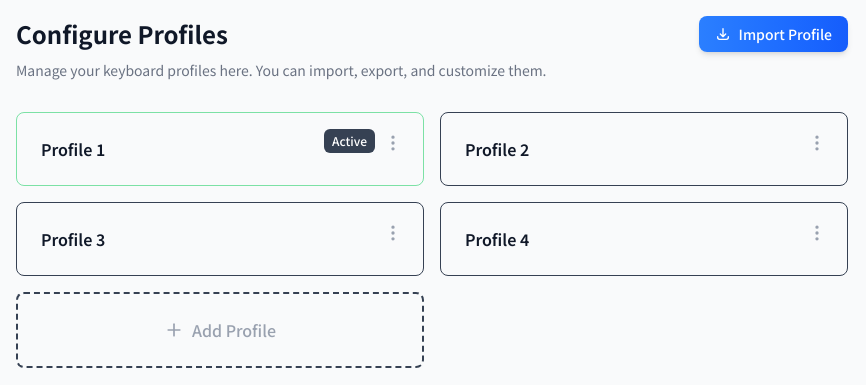
Test: ProfilesPage › menu from the keyboard › leaves the focus on the menu button when opened with the mouse
Click the 2nd button named "Menu". click: (817, 143)
box: 803,129 -> 831,157
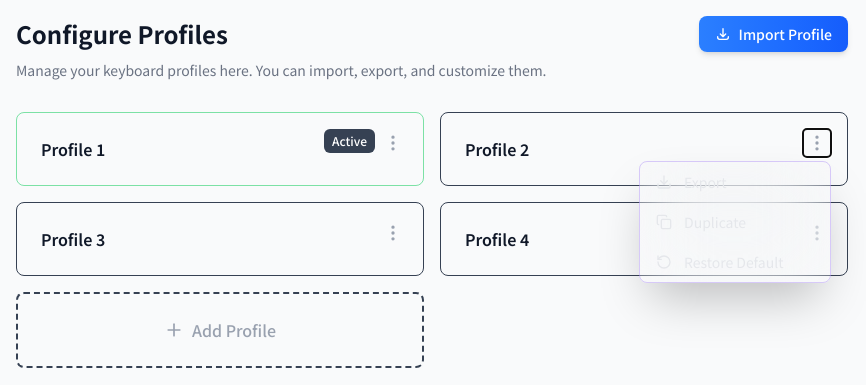
Check: the menu is shown, box 639,161 -> 831,283
